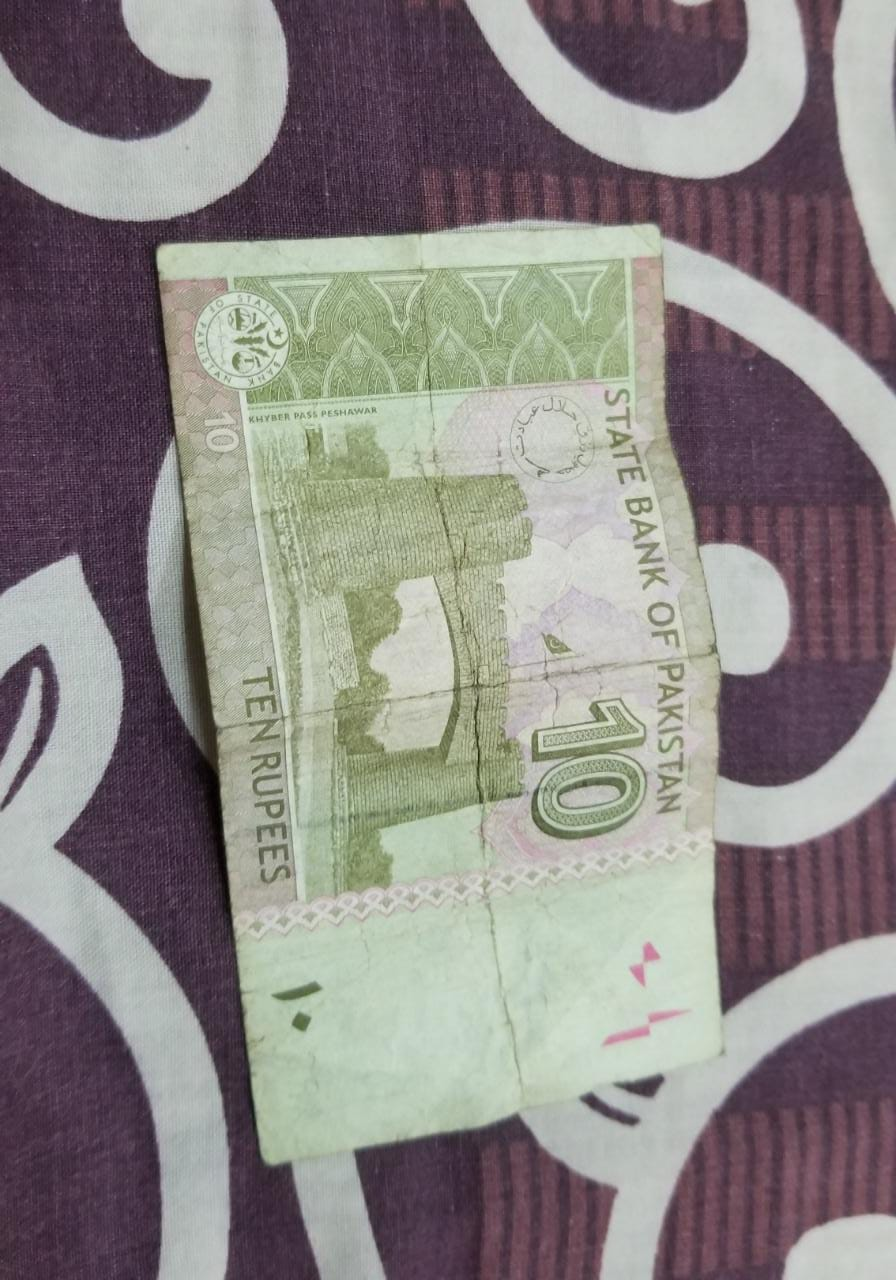10 rupee: (148, 223, 729, 1168)
